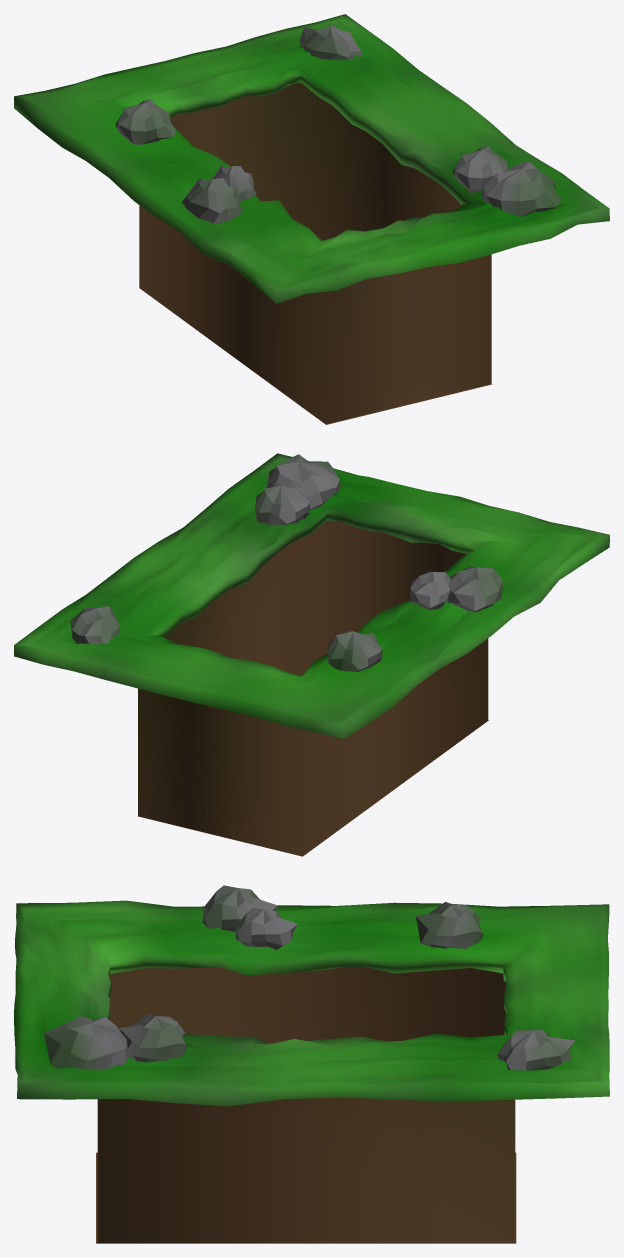
Rendered from Pit.fbx.
The picture shows the model from 3 angles, top to bottom: view 1: azimuth 30°, elevation 25°; view 2: azimuth 150°, elevation 25°; view 3: azimuth 270°, elevation 25°; orthographic projection. The views are drawn at different scales.
Parts seen in each view (by area): view 1: CovaAberta; view 2: CovaAberta; view 3: CovaAberta.
Part boxes in pixels (x1,y1,x2,y2): CovaAberta: (14, 14, 609, 424); CovaAberta: (14, 453, 609, 856); CovaAberta: (14, 885, 609, 1243).
Size of the model in its own units: 324 by 196 by 445.
